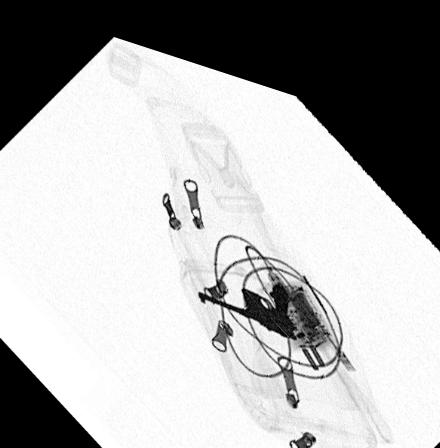Gun: (194, 267, 300, 324)
